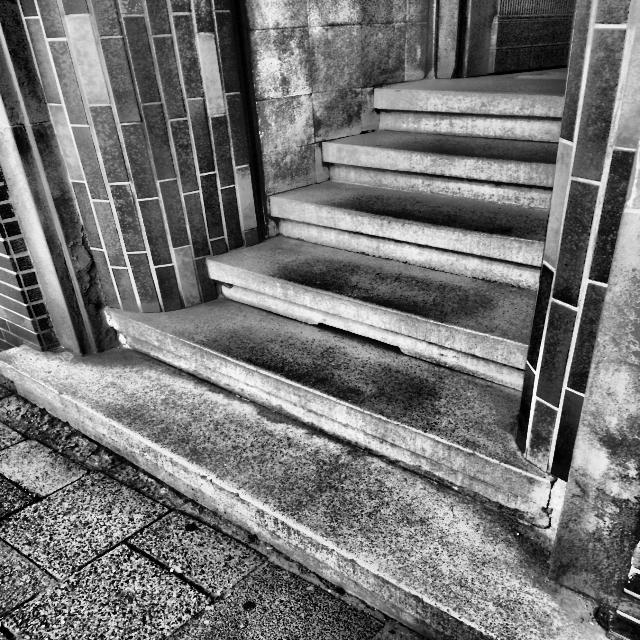escada: (69, 71, 566, 640)
